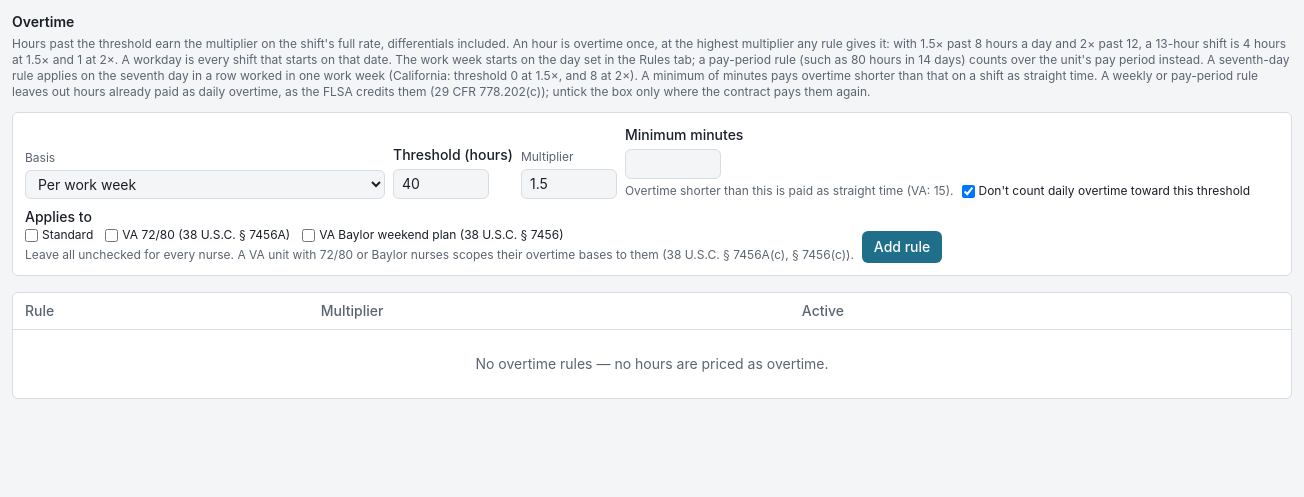
overtime bases in Settings › Pay › puts the Add form back to its starting values after a rule is added
Select "Per workday" in the dropdown labelled "Basis" at {"x": 205, "y": 184}, box [25,170,385,199]
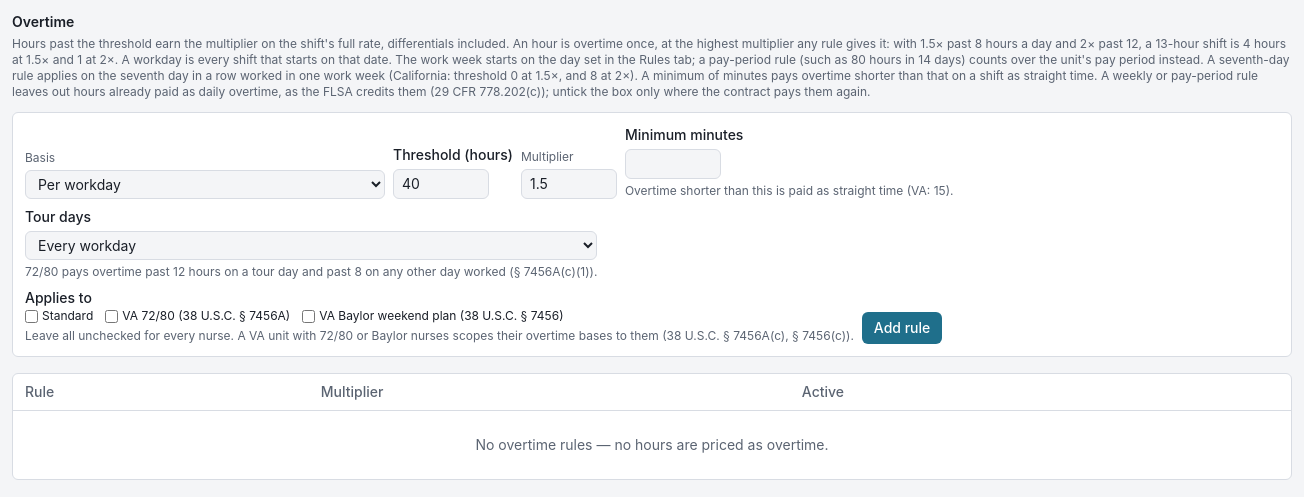
Replace the text in the number field labelled "Threshold (hours)" with "8" at {"x": 441, "y": 184}, box [393,169,489,199]
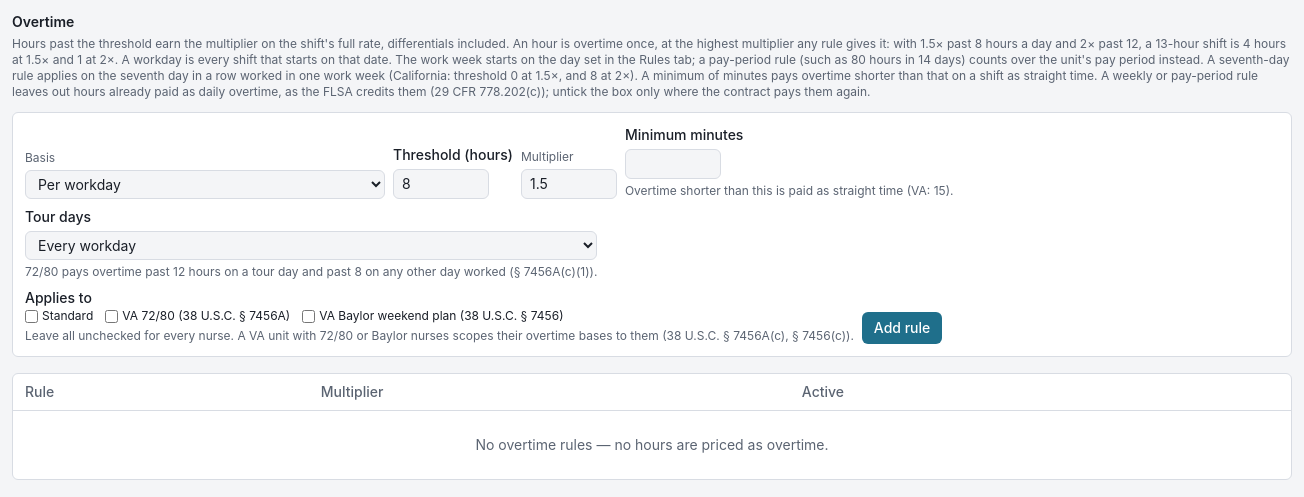
Replace the text in the number field labelled "Multiplier" with "2" at {"x": 569, "y": 184}, box [521,169,617,199]
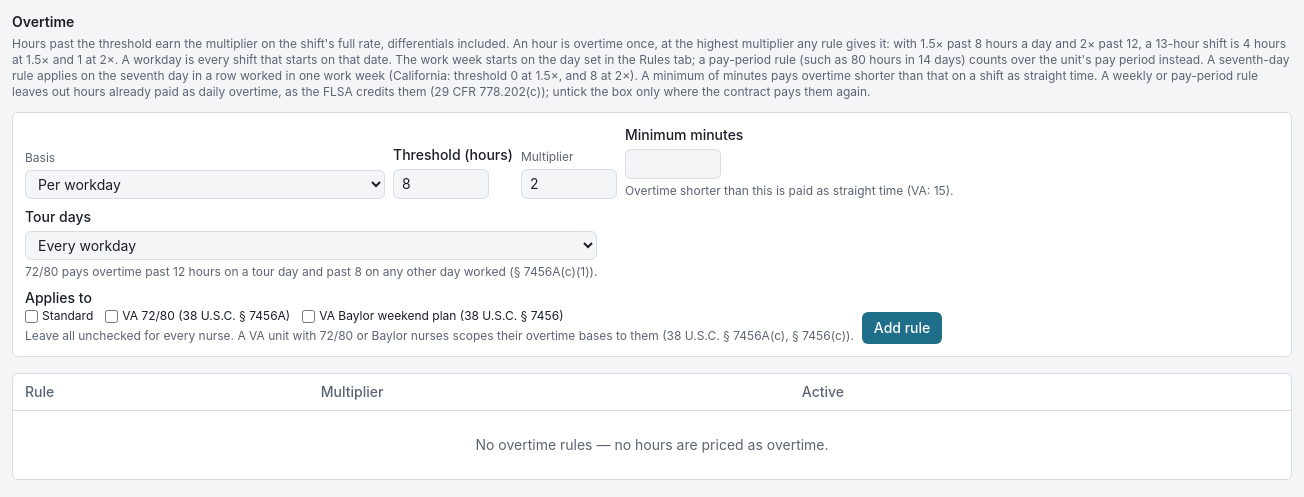
Type "15" into the number field labelled "Minimum minutes" at {"x": 673, "y": 164}, box [625,149,721,179]
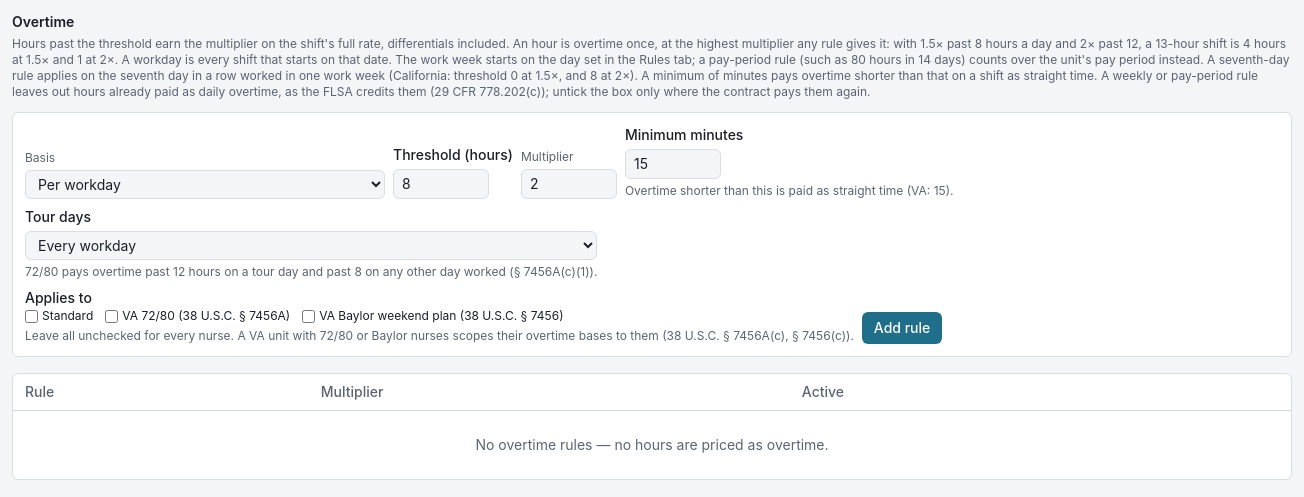
Click the button "Add rule" at {"x": 902, "y": 328}, box [862,312,942,344]
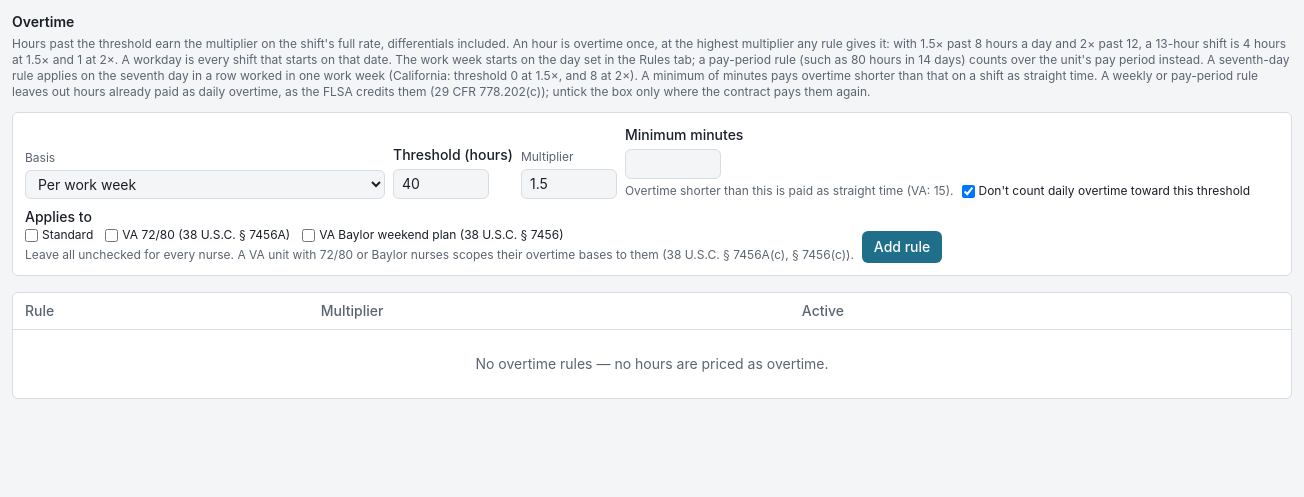
Expected: the number field labelled "Threshold (hours)" holds "40", [393,169,489,199]
Expected: the number field labelled "Multiplier" holds "1.5", [521,169,617,199]
Expected: the number field labelled "Minimum minutes" is empty, [625,149,721,179]
